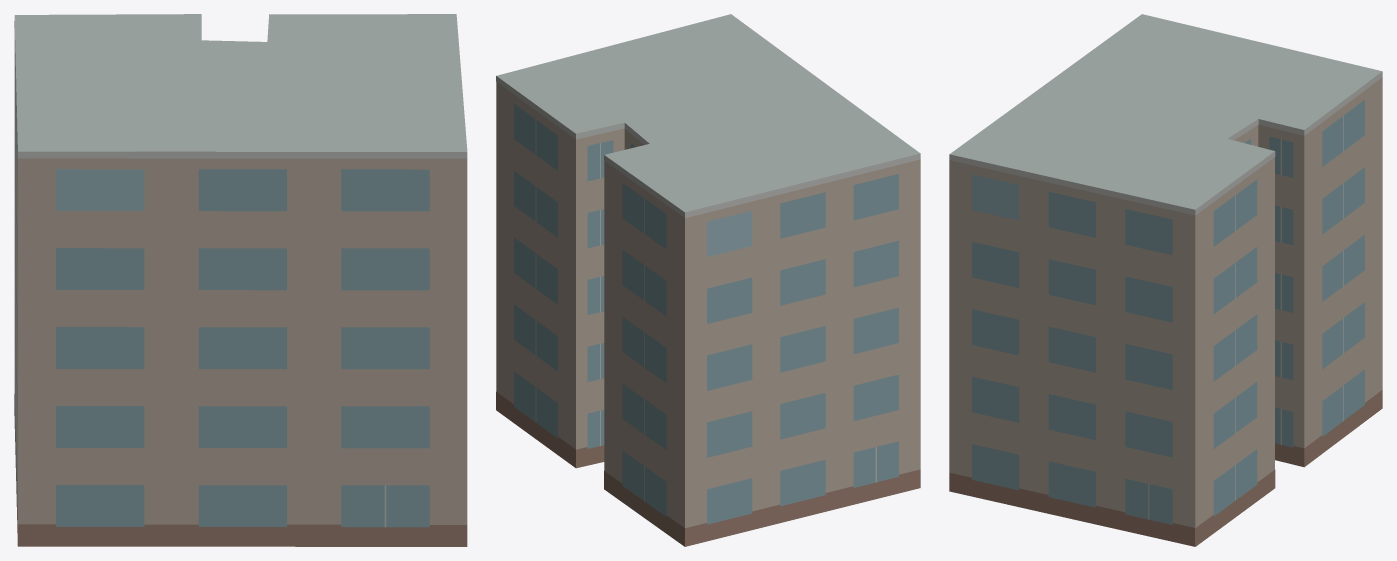
File: survey-upis-32883266.glb
3 views of the same model, side by side, from view 1: azimuth 30°, elevation 25°; view 2: azimuth 150°, elevation 25°; view 3: azimuth 270°, elevation 25° (orthographic). The views are drawn at different scales.
Visible parts, largest first — view 1: survey-upis-32883266.tmp; view 2: survey-upis-32883266.tmp; view 3: survey-upis-32883266.tmp.
Boxes of the visible parts, x1,y1,x2,y2 form: survey-upis-32883266.tmp: [14, 14, 467, 546]; survey-upis-32883266.tmp: [496, 14, 920, 546]; survey-upis-32883266.tmp: [949, 14, 1382, 546].
Bounding box in the file's own units: 17.69 × 14.2 × 16.55.
